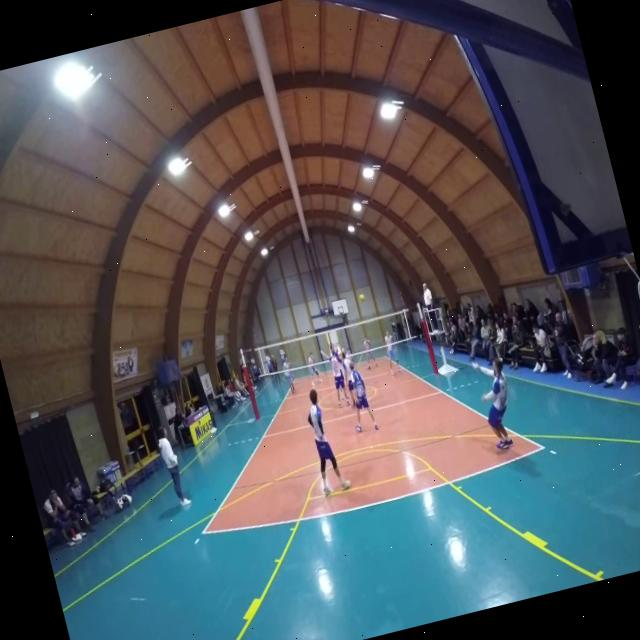Volleyball: (358, 292, 367, 304)
